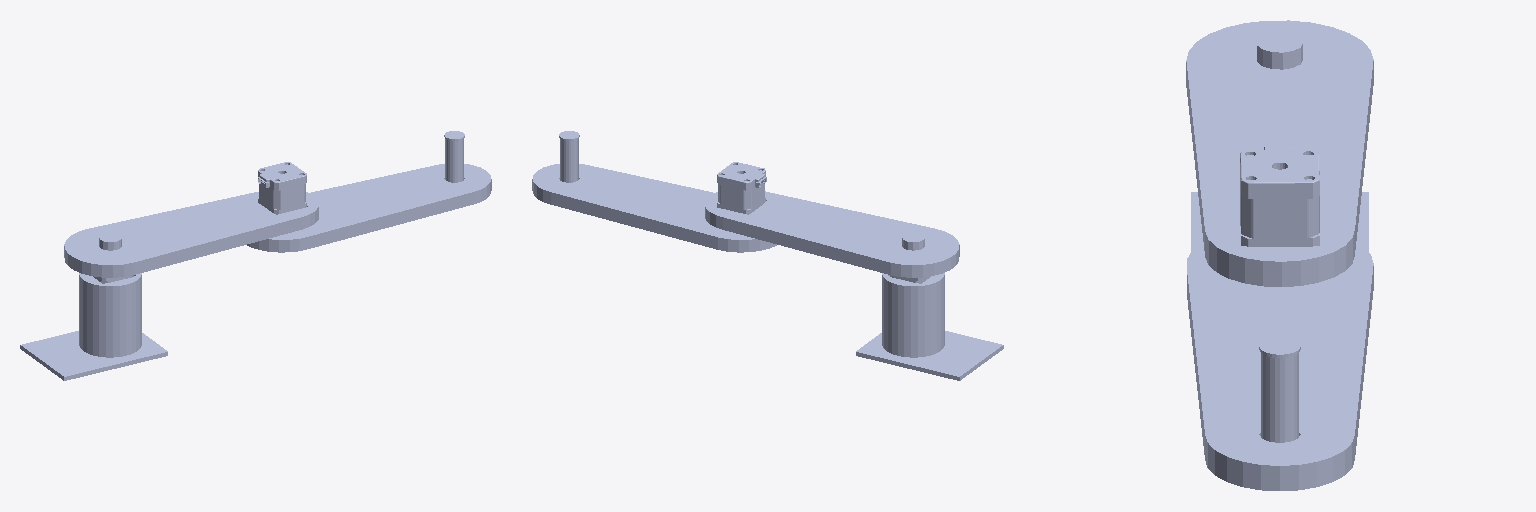
URDF robot description (ensamblaje):
<?xml version="1.0" encoding="utf-8"?>
<!-- This URDF was automatically created by SolidWorks to URDF Exporter! Originally created by [author] ([email redacted]) 
     Commit Version: 1.6.0-4-g7f85cfe  Build Version: 1.6.7995.38578
     For more information, please see http://wiki.ros.org/sw_urdf_exporter -->
<robot
  name="ensamblaje">
  <link
    name="base_link">
    <inertial>
      <origin
        xyz="-0.0031922 5.2125E-10 0.042401"
        rpy="0 0 0" />
      <mass
        value="0.38379" />
      <inertia
        ixx="0.0003549"
        ixy="1.7886E-12"
        ixz="-3.9495E-05"
        iyy="0.00041474"
        iyz="6.195E-13"
        izz="0.00033584" />
    </inertial>
    <visual>
      <origin
        xyz="0 0 0"
        rpy="0 0 0" />
      <geometry>
        <mesh
          filename="package://ensamblaje/meshes/base_link.STL" />
      </geometry>
      <material
        name="">
        <color
          rgba="0.79216 0.81961 0.93333 1" />
      </material>
    </visual>
    <collision>
      <origin
        xyz="0 0 0"
        rpy="0 0 0" />
      <geometry>
        <mesh
          filename="package://ensamblaje/meshes/base_link.STL" />
      </geometry>
    </collision>
  </link>
  <link
    name="brazo_link">
    <inertial>
      <origin
        xyz="0.11104 -2.0637E-05 0.010869"
        rpy="0 0 0" />
      <mass
        value="0.44515" />
      <inertia
        ixx="0.00026796"
        ixy="7.3938E-08"
        ixz="1.1718E-05"
        iyy="0.0025749"
        iyz="-4.1064E-10"
        izz="0.0028234" />
    </inertial>
    <visual>
      <origin
        xyz="0 0 0"
        rpy="0 0 0" />
      <geometry>
        <mesh
          filename="package://ensamblaje/meshes/brazo_link.STL" />
      </geometry>
      <material
        name="">
        <color
          rgba="0.79216 0.81961 0.93333 1" />
      </material>
    </visual>
    <collision>
      <origin
        xyz="0 0 0"
        rpy="0 0 0" />
      <geometry>
        <mesh
          filename="package://ensamblaje/meshes/brazo_link.STL" />
      </geometry>
    </collision>
  </link>
  <joint
    name="brazo_joint"
    type="revolute">
    <origin
      xyz="0 0 0.1077"
      rpy="0 0 0" />
    <parent
      link="base_link" />
    <child
      link="brazo_link" />
    <axis
      xyz="0 0 1" />
    <limit
      lower="-1.5707"
      upper="1.5707"
      effort="0"
      velocity="1" />
  </joint>
  <link
    name="antebrazo_link">
    <inertial>
      <origin
        xyz="0.096735 3.7289E-06 0.0074634"
        rpy="0 0 0" />
      <mass
        value="0.37688" />
      <inertia
        ixx="0.00025699"
        ixy="-1.1824E-08"
        ixz="-9.8018E-07"
        iyy="0.0025405"
        iyz="4.5851E-12"
        izz="0.0027833" />
    </inertial>
    <visual>
      <origin
        xyz="0 0 0"
        rpy="0 0 0" />
      <geometry>
        <mesh
          filename="package://ensamblaje/meshes/antebrazo_link.STL" />
      </geometry>
      <material
        name="">
        <color
          rgba="0.79216 0.81961 0.93333 1" />
      </material>
    </visual>
    <collision>
      <origin
        xyz="0 0 0"
        rpy="0 0 0" />
      <geometry>
        <mesh
          filename="package://ensamblaje/meshes/antebrazo_link.STL" />
      </geometry>
    </collision>
  </link>
  <joint
    name="antebrazo_joint"
    type="revolute">
    <origin
      xyz="0.21502 0 -0.02"
      rpy="0 0 0" />
    <parent
      link="brazo_link" />
    <child
      link="antebrazo_link" />
    <axis
      xyz="0 0 1" />
    <limit
      lower="-1.5707"
      upper="1.5707"
      effort="0"
      velocity="1" />
  </joint>
  <link
    name="efector_link">
    <inertial>
      <origin
        xyz="0 -4.0612E-06 -0.037471"
        rpy="0 0 0" />
      <mass
        value="0.025072" />
      <inertia
        ixx="1.3992E-05"
        ixy="-2.1453E-24"
        ixz="2.8726E-22"
        iyy="1.3999E-05"
        iyz="3.8969E-24"
        izz="1.2444E-06" />
    </inertial>
    <visual>
      <origin
        xyz="0 0 0"
        rpy="0 0 0" />
      <geometry>
        <mesh
          filename="package://ensamblaje/meshes/efector_link.STL" />
      </geometry>
      <material
        name="">
        <color
          rgba="0.79216 0.81961 0.93333 1" />
      </material>
    </visual>
    <collision>
      <origin
        xyz="0 0 0"
        rpy="0 0 0" />
      <geometry>
        <mesh
          filename="package://ensamblaje/meshes/efector_link.STL" />
      </geometry>
    </collision>
  </link>
  <joint
    name="efector_joint"
    type="prismatic">
    <origin
      xyz="0.215 0 -0.01"
      rpy="3.1416 0 0" />
    <parent
      link="antebrazo_link" />
    <child
      link="efector_link" />
    <axis
      xyz="0 0 1" />
    <limit
      lower="0"
      upper="0.05"
      effort="0"
      velocity="1" />
  </joint>
</robot>

--- Facts derived from the render (not from the file) ---
Views: 3 orthographic renders of the robot side by side, from view 1: azimuth 30°, elevation 25°; view 2: azimuth 150°, elevation 25°; view 3: azimuth 270°, elevation 25°.
Model ensamblaje with 4 links and 3 joints (2 revolute, 1 prismatic), rooted at base_link, posed all joints at 0.
Links seen in each view (by area): view 1: brazo_link, antebrazo_link, base_link, efector_link; view 2: brazo_link, antebrazo_link, base_link, efector_link; view 3: brazo_link, antebrazo_link, efector_link, base_link.
Link boxes in pixels (box(x1,y1,x2,y2)): brazo_link: box(64, 162, 318, 277); antebrazo_link: box(247, 164, 491, 252); base_link: box(20, 273, 167, 380); efector_link: box(444, 131, 464, 182); brazo_link: box(705, 162, 959, 277); antebrazo_link: box(532, 164, 776, 252); base_link: box(856, 273, 1003, 380); efector_link: box(559, 131, 579, 182); brazo_link: box(1186, 20, 1373, 286); antebrazo_link: box(1187, 242, 1373, 490); efector_link: box(1259, 337, 1300, 442); base_link: box(1191, 192, 1368, 251).
Size in the robot's own frame: 0.555 by 0.1 by 0.1604 metres.
4 mesh visuals loaded from 4 distinct referenced files (4 binary STL).